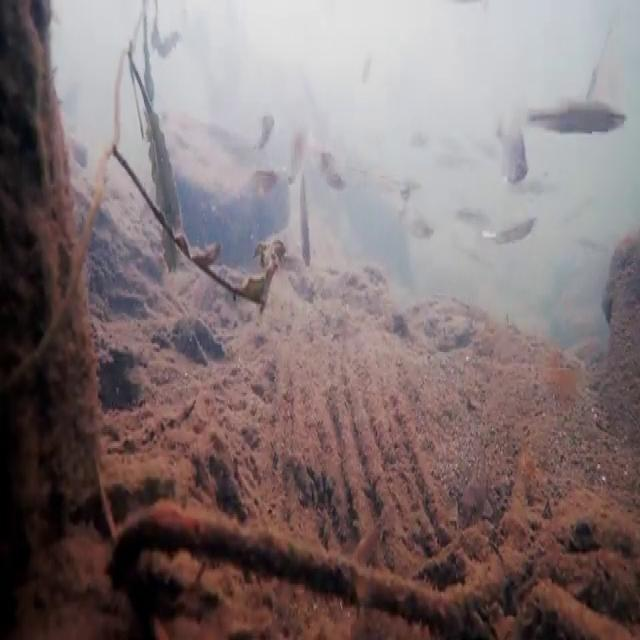Cakil Baligi: (532, 88, 628, 135), (496, 114, 528, 186), (487, 206, 537, 250), (298, 170, 314, 268), (256, 107, 276, 147), (412, 208, 434, 244)
